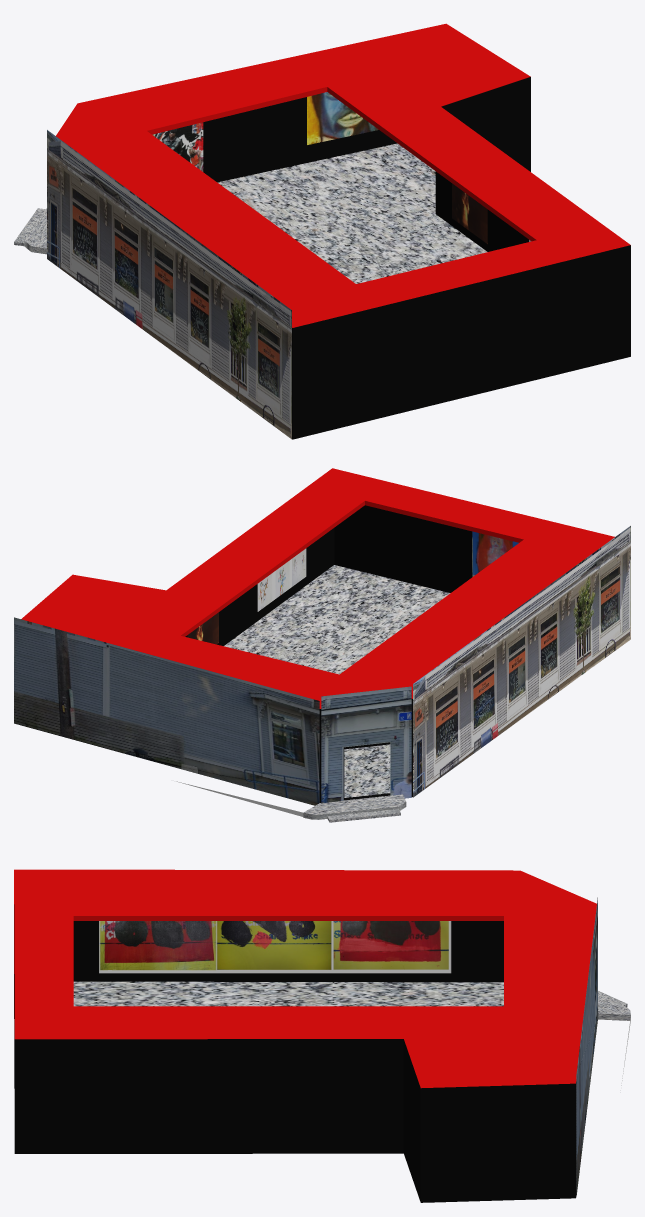
File: 86fd231f-8736-4434-933d-5cebffefcfb1.glb
The picture shows the model from 3 angles, top to bottom: view 1: azimuth 30°, elevation 25°; view 2: azimuth 150°, elevation 25°; view 3: azimuth 270°, elevation 25°; orthographic projection. The views are drawn at different scales.
Visible parts, largest first — view 1: Node-Mesh_10, Node-Mesh_13, Node-Mesh_9, Node-Mesh_12, Node-Mesh_5, Node-Mesh_4, Node-Mesh_3; view 2: Node-Mesh_10, Node-Mesh_8, Node-Mesh_9, Node-Mesh_12, Node-Mesh_13, Node-Mesh_1, Node-Mesh_0, Node-Mesh_2, Node-Mesh_3; view 3: Node-Mesh_13, Node-Mesh_10, Node-Mesh_11, Node-Mesh_12, Node-Mesh_8.
Part boxes in pixels (<box>): Node-Mesh_10: <box>56,23,630,327</box>; Node-Mesh_13: <box>203,77,630,439</box>; Node-Mesh_9: <box>47,130,291,439</box>; Node-Mesh_12: <box>14,143,487,283</box>; Node-Mesh_5: <box>307,92,378,144</box>; Node-Mesh_4: <box>152,122,203,171</box>; Node-Mesh_3: <box>452,183,487,243</box>; Node-Mesh_10: <box>21,468,614,708</box>; Node-Mesh_8: <box>14,617,319,805</box>; Node-Mesh_9: <box>413,526,630,797</box>; Node-Mesh_12: <box>224,565,450,822</box>; Node-Mesh_13: <box>16,505,472,802</box>; Node-Mesh_1: <box>321,686,411,803</box>; Node-Mesh_0: <box>257,548,306,611</box>; Node-Mesh_2: <box>472,531,518,576</box>; Node-Mesh_3: <box>187,612,218,644</box>; Node-Mesh_13: <box>14,904,576,1202</box>; Node-Mesh_10: <box>14,869,596,1088</box>; Node-Mesh_11: <box>99,921,451,973</box>; Node-Mesh_12: <box>73,981,630,1020</box>; Node-Mesh_8: <box>576,897,597,1197</box>.
Size of what is drawn, in the model's own units: 22.94 by 6.48 by 26.81.
15 materials, 12 textured.
